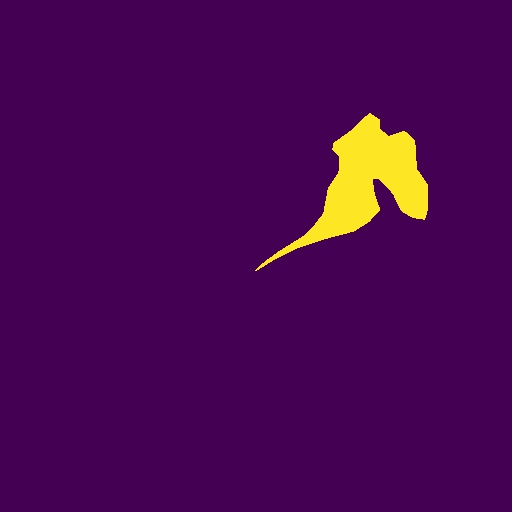Gliomia_tumour: (255, 113, 428, 271)
